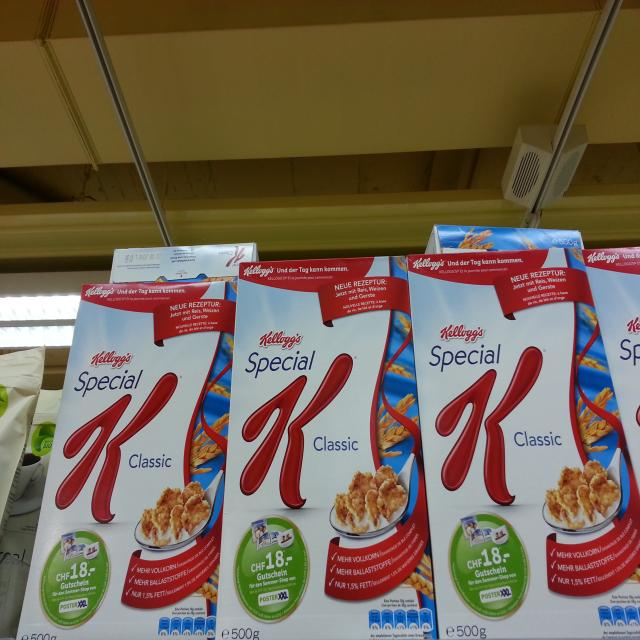Cereals: (406, 252, 640, 640), (20, 275, 218, 640), (231, 262, 414, 640)
